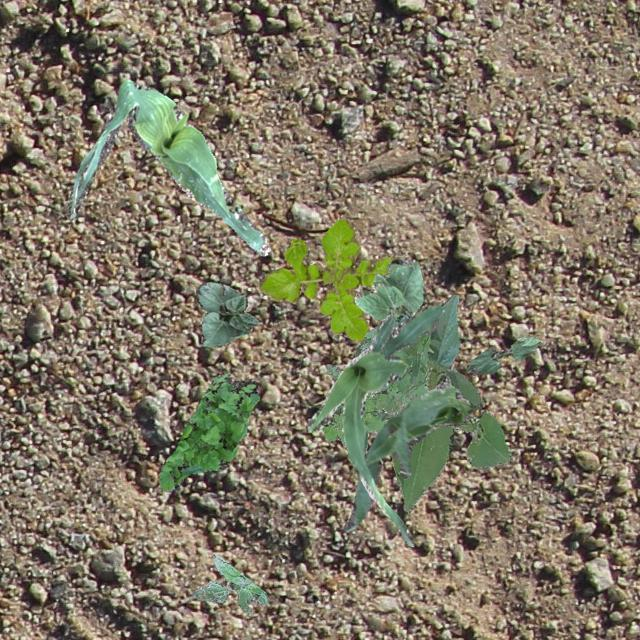crop: (63, 78, 270, 254), (355, 294, 511, 512), (304, 304, 444, 546), (342, 382, 472, 530), (354, 258, 424, 320), (195, 280, 258, 346), (466, 336, 540, 374)
weed: (258, 215, 392, 342), (321, 328, 429, 446), (158, 372, 258, 490), (192, 552, 268, 614)
